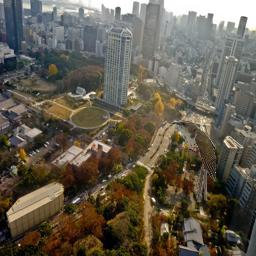Cuckoo: (171, 120, 216, 202)
